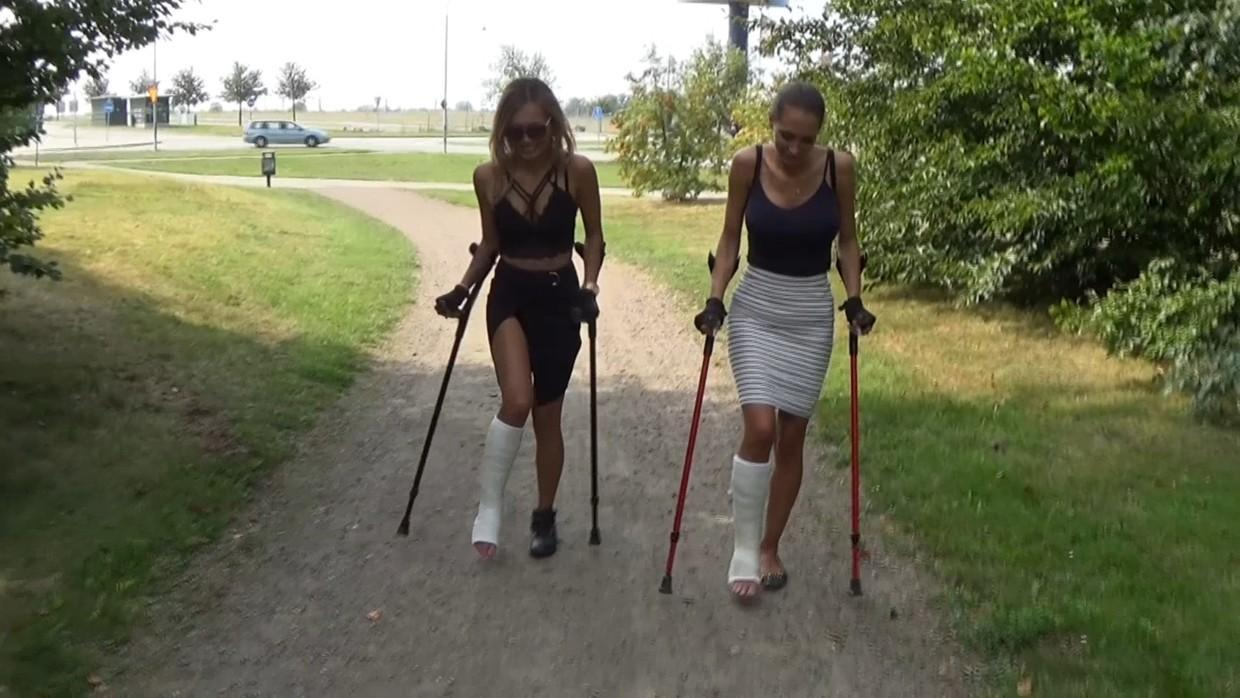crutches: (659, 85, 866, 601), (395, 78, 604, 561)
